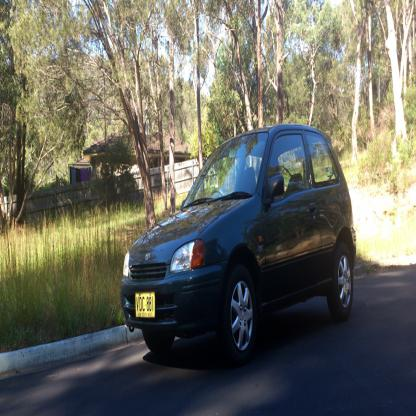Car: (119, 121, 352, 362)
